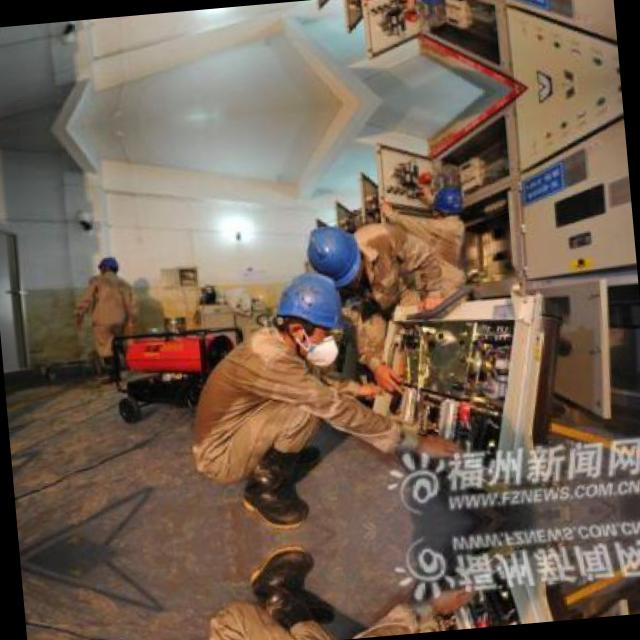helmet: (269, 268, 342, 360), (287, 224, 360, 295), (422, 176, 472, 228), (95, 249, 122, 276), (405, 0, 453, 14)
